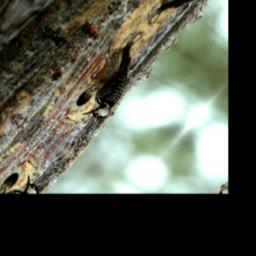Woodpecker: (62, 30, 167, 131)
